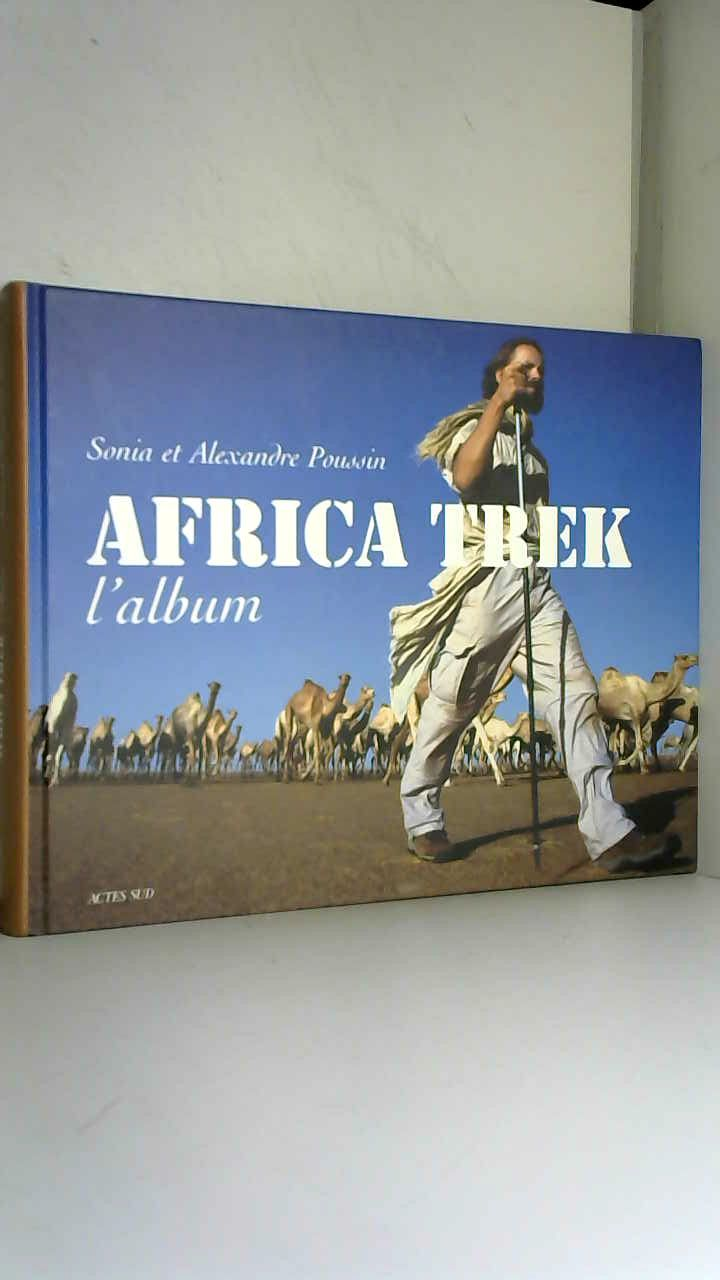book: (2, 269, 710, 957)
